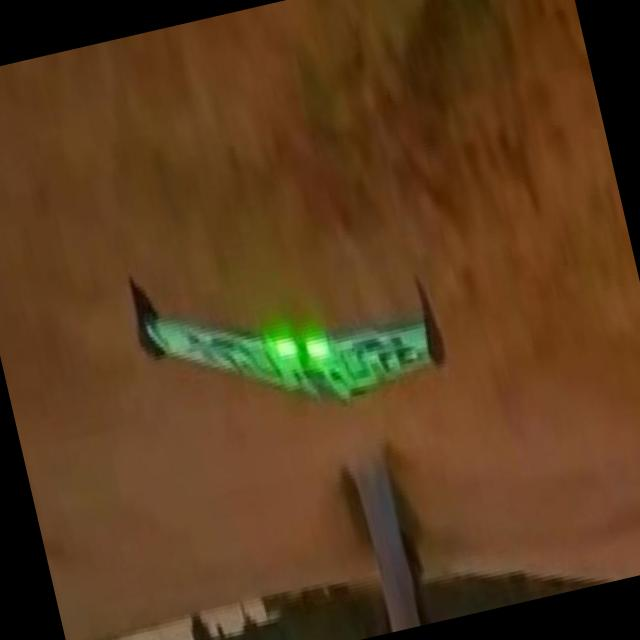UAV: (118, 228, 425, 450)
